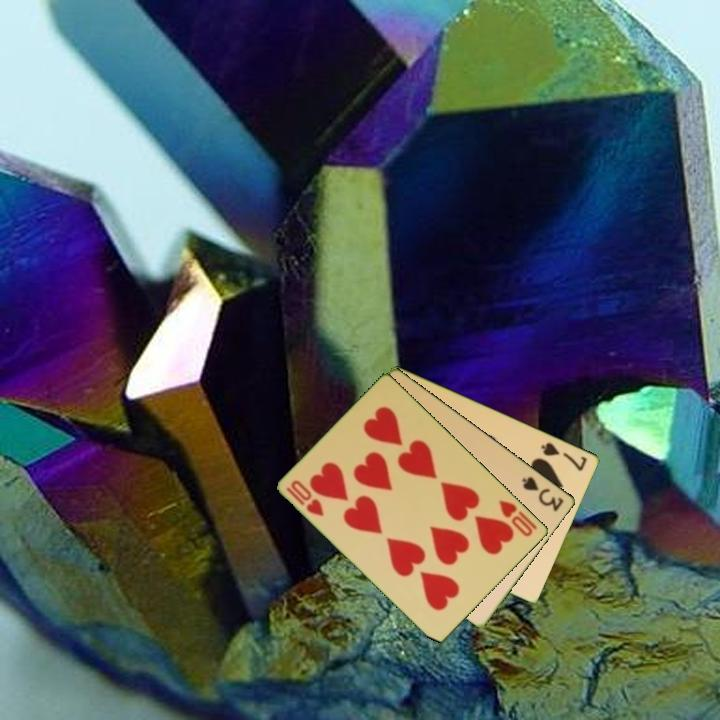10h: (496, 496, 541, 540), (283, 476, 328, 519)
3s: (519, 473, 567, 514)
7s: (538, 438, 590, 474)
